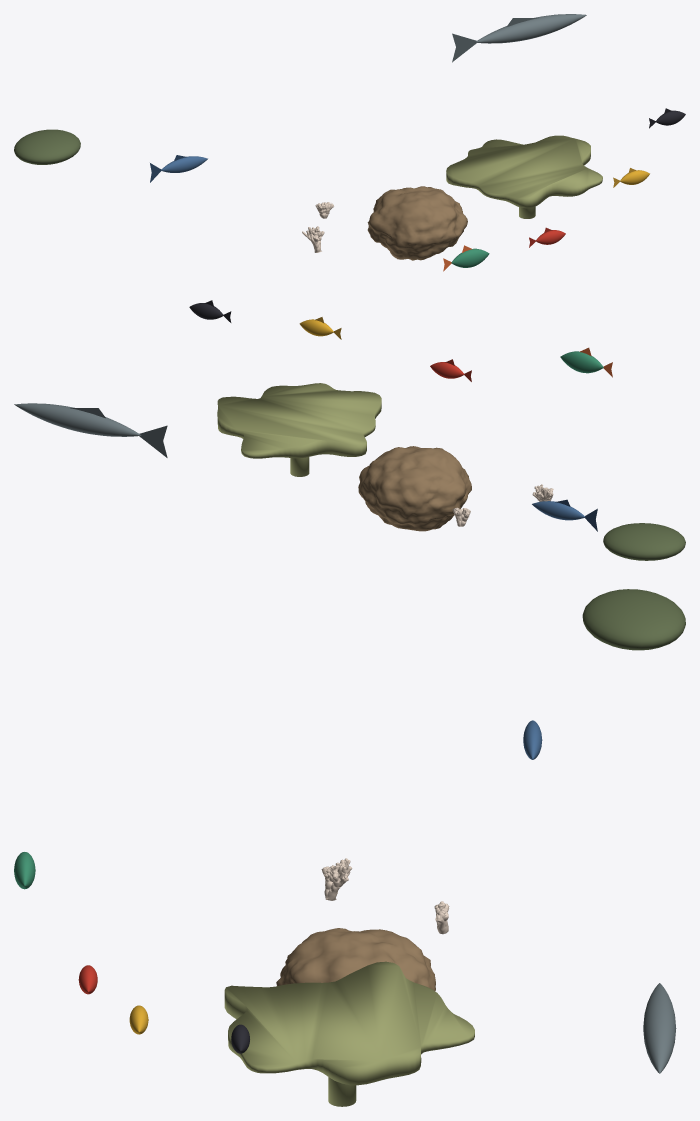
The model's file is env-reef.glb.
3 renders of one model, top to bottom at view 1: azimuth 30°, elevation 25°; view 2: azimuth 150°, elevation 25°; view 3: azimuth 270°, elevation 25°, orthographic. The views are drawn at different scales.
Visible parts, largest first — view 1: ENV_reef_table-coral, ENV_reef_boulder-coral, ENV_reef_turtle, ENV_reef_fish_hiu, ENV_reef_fish_cakalang, ENV_reef_fish_kakatua; view 2: ENV_reef_table-coral, ENV_reef_boulder-coral, ENV_reef_turtle, ENV_reef_fish_hiu, ENV_reef_fish_cakalang, ENV_reef_fish_kakatua, ENV_reef_fish_hiu_tail; view 3: ENV_reef_table-coral, ENV_reef_boulder-coral, ENV_reef_turtle, ENV_reef_fish_hiu, ENV_reef_branching-coral.
Boxes of the visible parts, box(x1,y1,x2,y2) form: ENV_reef_table-coral: box(446, 135, 602, 208); ENV_reef_boulder-coral: box(367, 186, 467, 260); ENV_reef_turtle: box(14, 129, 80, 164); ENV_reef_fish_hiu: box(475, 14, 586, 43); ENV_reef_fish_cakalang: box(160, 156, 207, 172); ENV_reef_fish_kakatua: box(451, 248, 489, 267); ENV_reef_table-coral: box(217, 383, 381, 458); ENV_reef_boulder-coral: box(358, 446, 471, 531); ENV_reef_turtle: box(603, 523, 685, 560); ENV_reef_fish_hiu: box(14, 403, 141, 436); ENV_reef_fish_cakalang: box(532, 501, 585, 520); ENV_reef_fish_kakatua: box(560, 351, 603, 373); ENV_reef_fish_hiu_tail: box(139, 425, 167, 457); ENV_reef_table-coral: box(224, 961, 474, 1085); ENV_reef_boulder-coral: box(276, 928, 435, 990); ENV_reef_turtle: box(582, 589, 685, 650); ENV_reef_fish_hiu: box(643, 983, 676, 1073); ENV_reef_branching-coral: box(321, 858, 352, 900).
Size of the model in its own units: 8.72 by 1.81 by 5.29.
